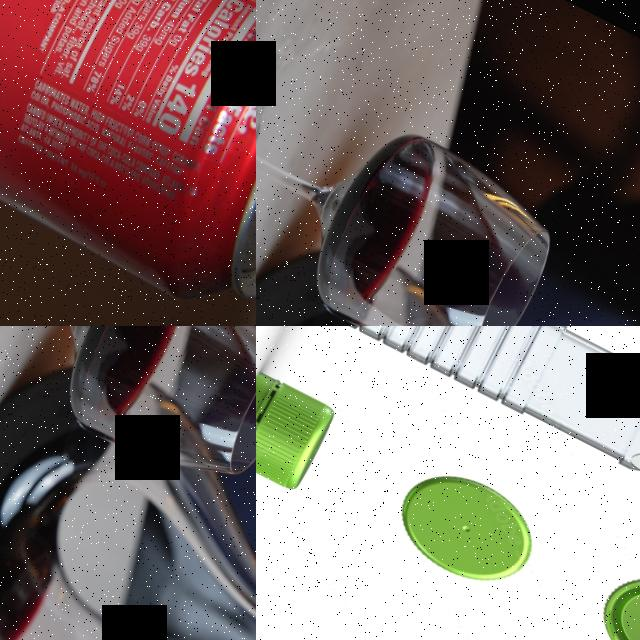bottle: (285, 326, 640, 541)
can: (0, 0, 256, 326)
